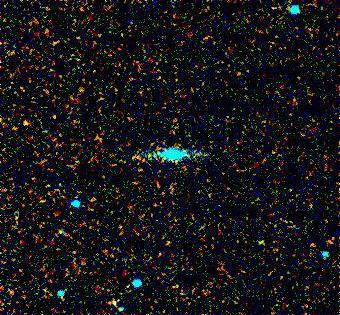star: (10, 111, 40, 141)
